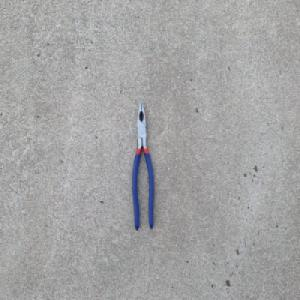Pliers: (131, 97, 155, 232)
